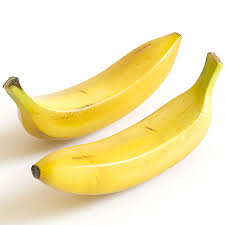looks_good: (1, 28, 225, 198)
